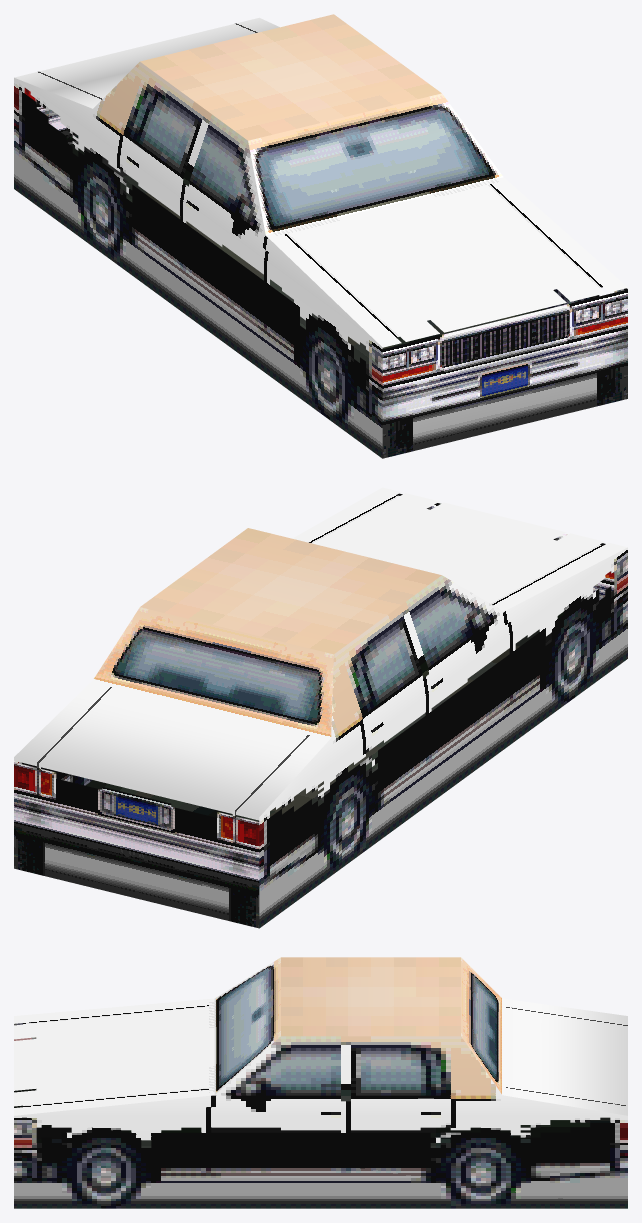
Rendered from glass-193.glb.
3 renders of one model, top to bottom at view 1: azimuth 30°, elevation 25°; view 2: azimuth 150°, elevation 25°; view 3: azimuth 270°, elevation 25°, orthographic. The views are drawn at different scales.
Parts seen in each view (by area): view 1: model; view 2: model; view 3: model.
Boxes of the visible parts, box(x1,y1,x2,y2) form: model: box(14, 14, 627, 458); model: box(14, 487, 627, 928); model: box(14, 957, 627, 1208).
Size of the model in its own units: 20 by 15.14 by 52.
4 materials, 4 textured.
